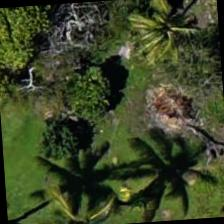Kelapa_Sawit: (116, 0, 212, 75)
